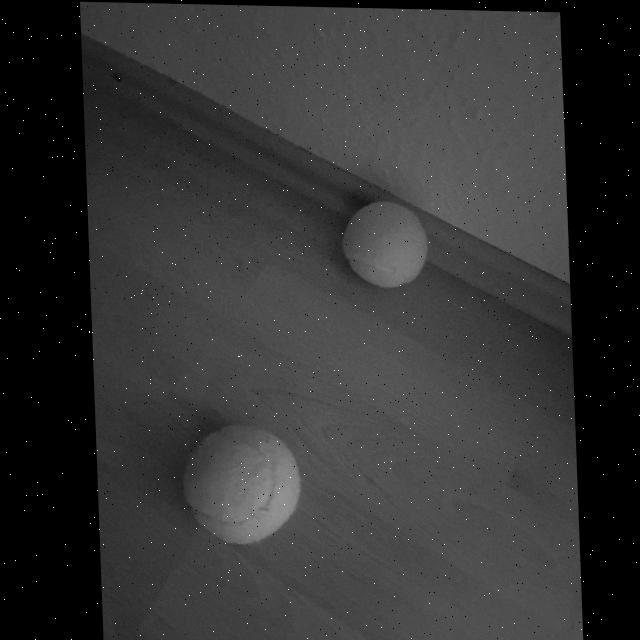Tennisball: (184, 425, 300, 544), (342, 202, 428, 288)
